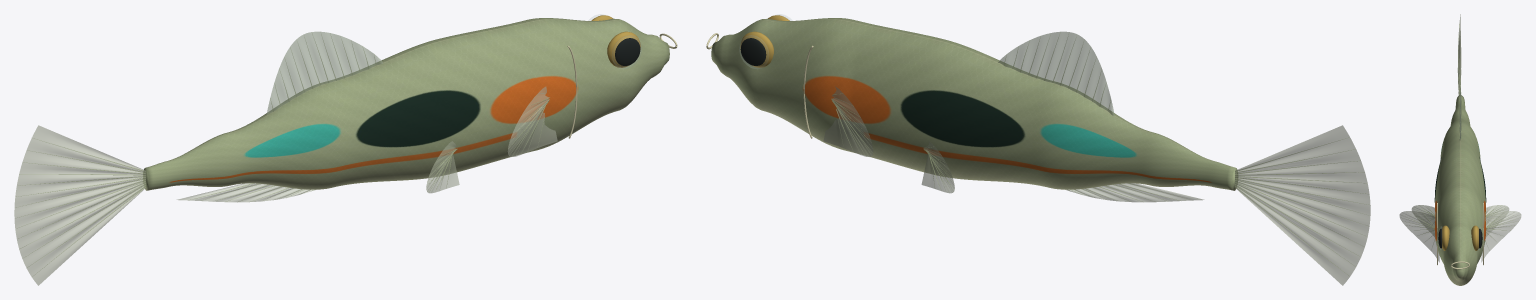
File: endler-desktop.glb
The picture shows the model from 3 angles, left to right: view 1: azimuth 30°, elevation 25°; view 2: azimuth 150°, elevation 25°; view 3: azimuth 270°, elevation 25°; orthographic projection. The views are drawn at different scales.
Parts seen in each view (by area): view 1: skin, tail, dorsal, dorsal-ray, pectoral-right, anal, pelvic-right, eye-pupil--1, eye-iris--1; view 2: skin, tail, dorsal, dorsal-ray, pectoral-left, anal, pelvic-left, eye-pupil--1, eye-iris--1; view 3: skin, pectoral-left, pectoral-right, dorsal-ray, pelvic-right, pelvic-left, eye-iris--1, tail, operculum, eye-pupil--1, dorsal.
Part boxes in pixels (x1,y1,x2,y2): skin: (143, 18, 669, 190); tail: (14, 125, 145, 285); dorsal: (266, 31, 382, 114); dorsal-ray: (16, 33, 549, 269); pectoral-right: (507, 86, 557, 156); anal: (177, 183, 315, 202); pelvic-right: (426, 141, 459, 193); eye-pupil--1: (615, 38, 640, 65); eye-iris--1: (591, 15, 640, 67); skin: (711, 18, 1237, 190); tail: (1235, 125, 1370, 285); dorsal: (998, 31, 1114, 115); dorsal-ray: (831, 32, 1368, 275); pectoral-left: (823, 86, 873, 156); anal: (1065, 183, 1203, 202); pelvic-left: (921, 141, 954, 193); eye-pupil--1: (740, 38, 766, 65); eye-iris--1: (740, 15, 789, 67); skin: (1434, 95, 1486, 285); pectoral-left: (1481, 211, 1521, 262); pectoral-right: (1399, 211, 1439, 262); dorsal-ray: (1405, 23, 1514, 246); pelvic-right: (1411, 205, 1435, 236); pelvic-left: (1485, 205, 1509, 236); eye-iris--1: (1442, 225, 1478, 250); tail: (1458, 14, 1461, 94); operculum: (1437, 203, 1483, 269); eye-pupil--1: (1438, 228, 1482, 248); dorsal: (1459, 82, 1461, 140).
Size of the model in its own units: 0.5912 by 0.1609 by 0.1425.
11 materials, 1 textured.
